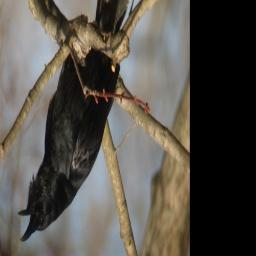Crow: (15, 0, 131, 249)
